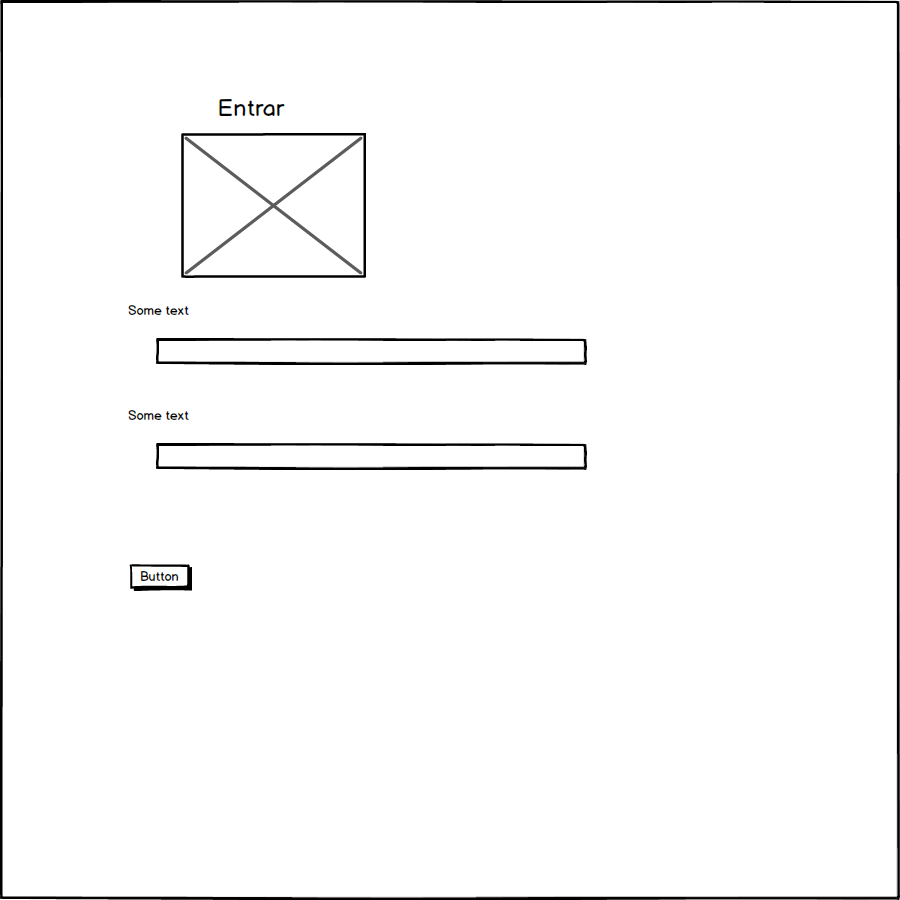button: (123, 560, 202, 597)
h1: (212, 91, 293, 123)
image: (176, 128, 371, 284)
input: (149, 328, 594, 374), (150, 437, 594, 475)
label: (119, 399, 204, 429), (122, 295, 196, 321)
